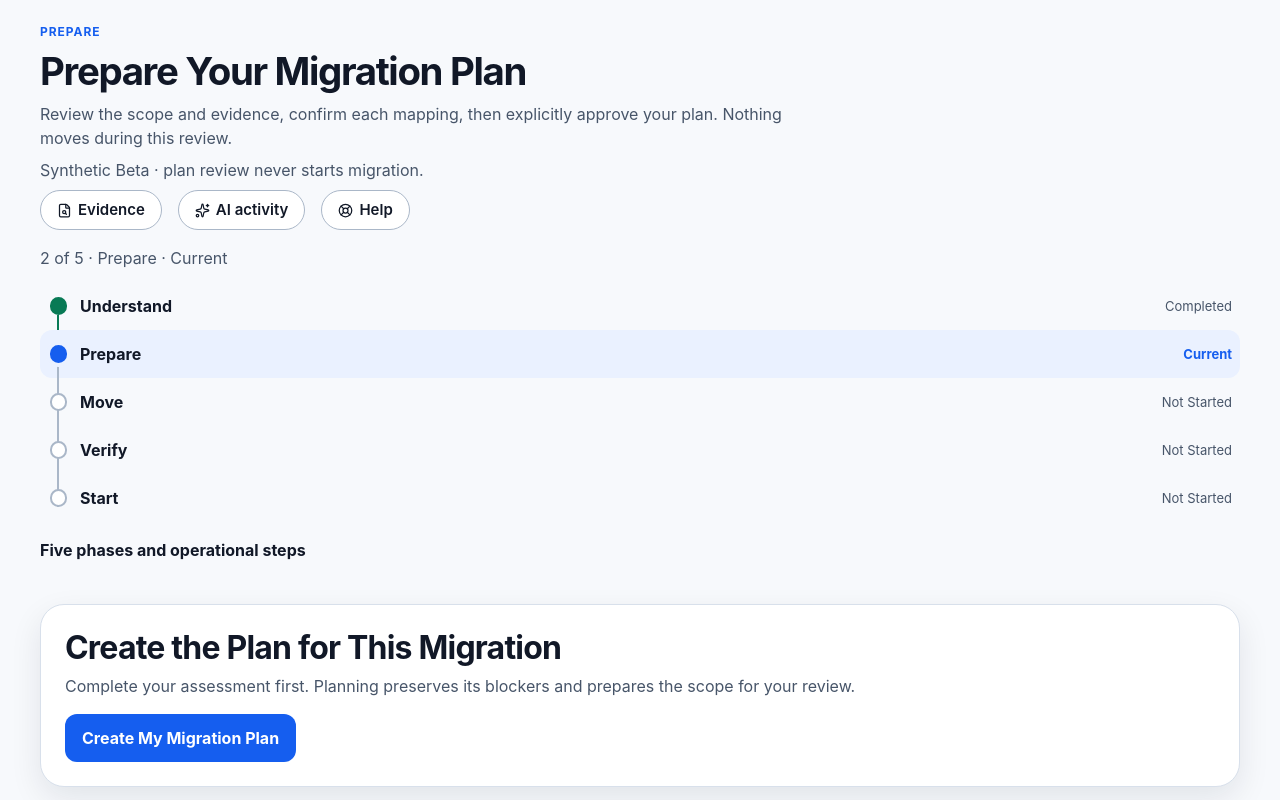
Test: Plan → Map → Approve › creates the plan in the same session and reads it before showing progress
Click the button "Create My Migration Plan" at point(181, 738), box [65,714,296,762]
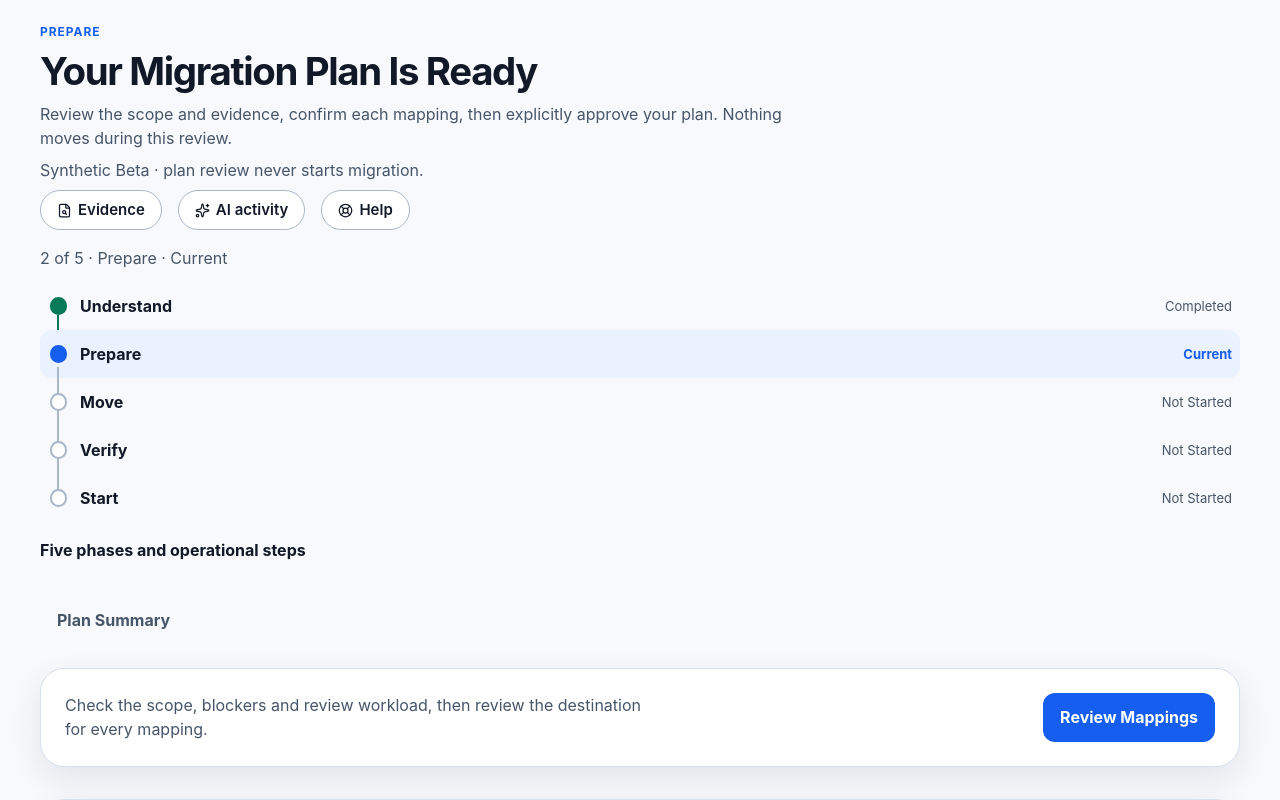
Check: the heading "Your Migration Plan Is Ready" is shown, box [40,48,537,94]
